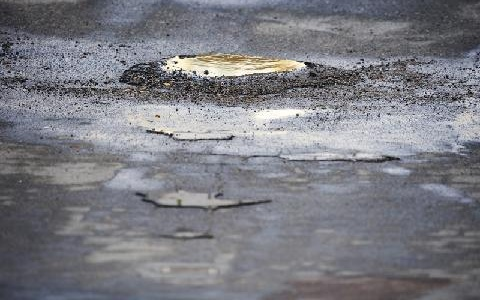pothole: (118, 52, 358, 99), (134, 189, 272, 211), (277, 154, 399, 166), (145, 128, 235, 142), (157, 230, 214, 241)
